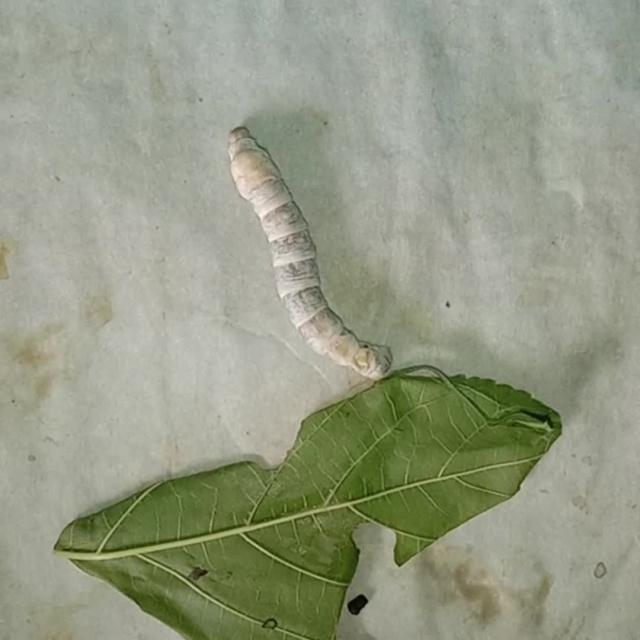Grasserie: (205, 111, 407, 424)
